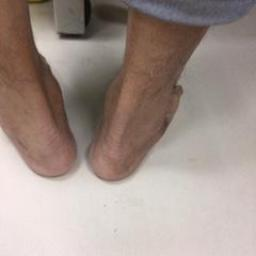Back View -Both Feet-: (1, 32, 204, 209)
